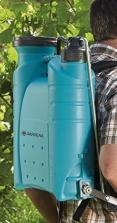PULVERISATEUR: (3, 3, 116, 223)
